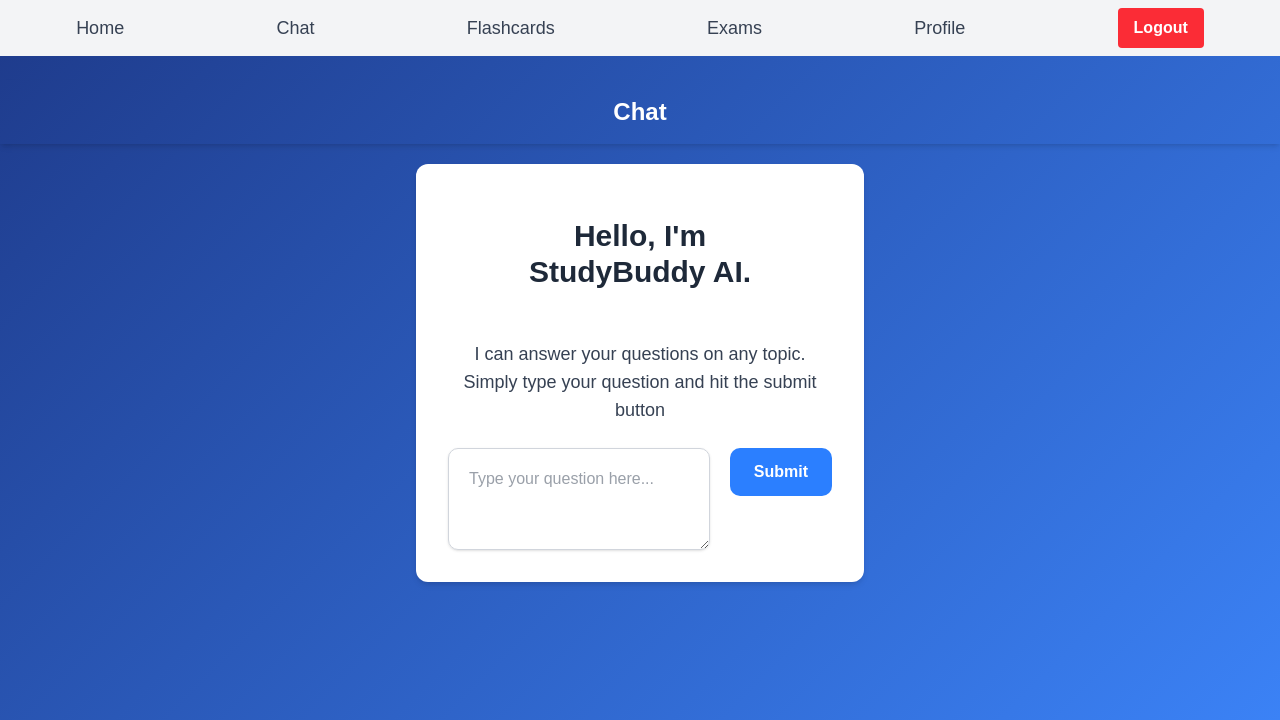
Test: ChatPage Feature › should clear the reply after a new prompt is submitted
In the text box with placeholder "Type your question here...": (579, 499) [448,448,710,550], type "First question"
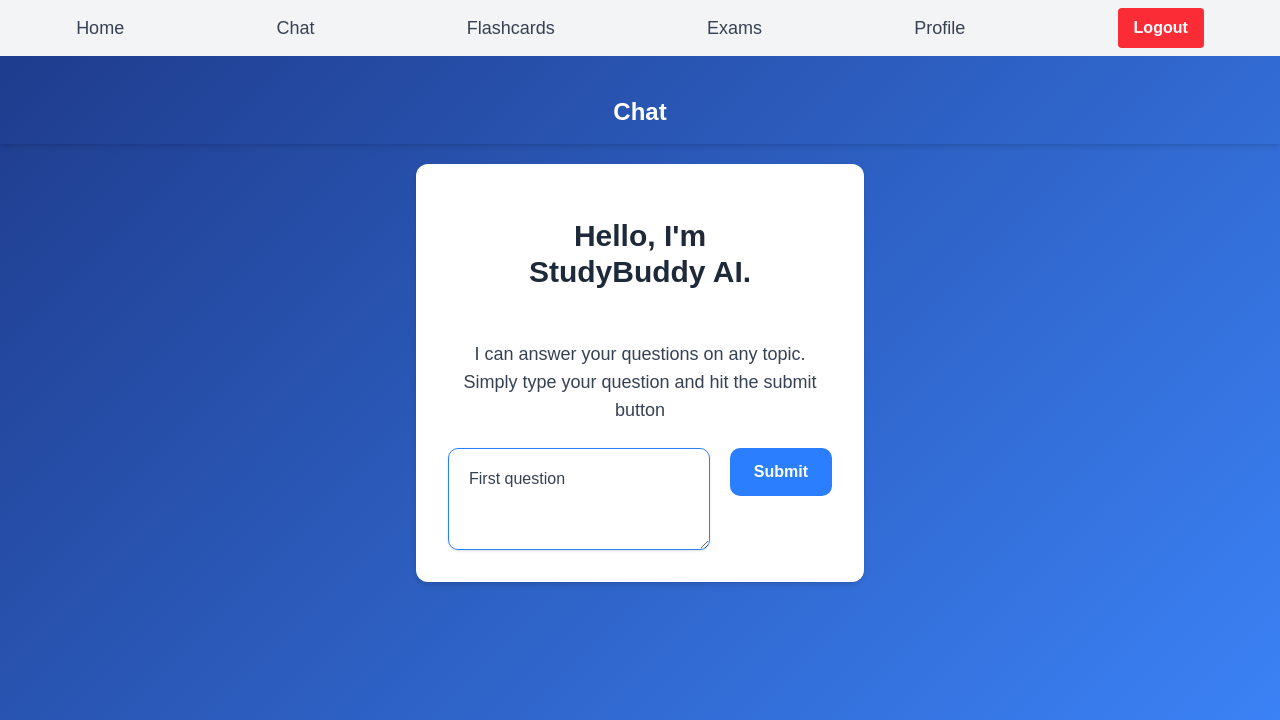
Click the button with id "submit-prompt": (781, 472) [730,448,832,496]
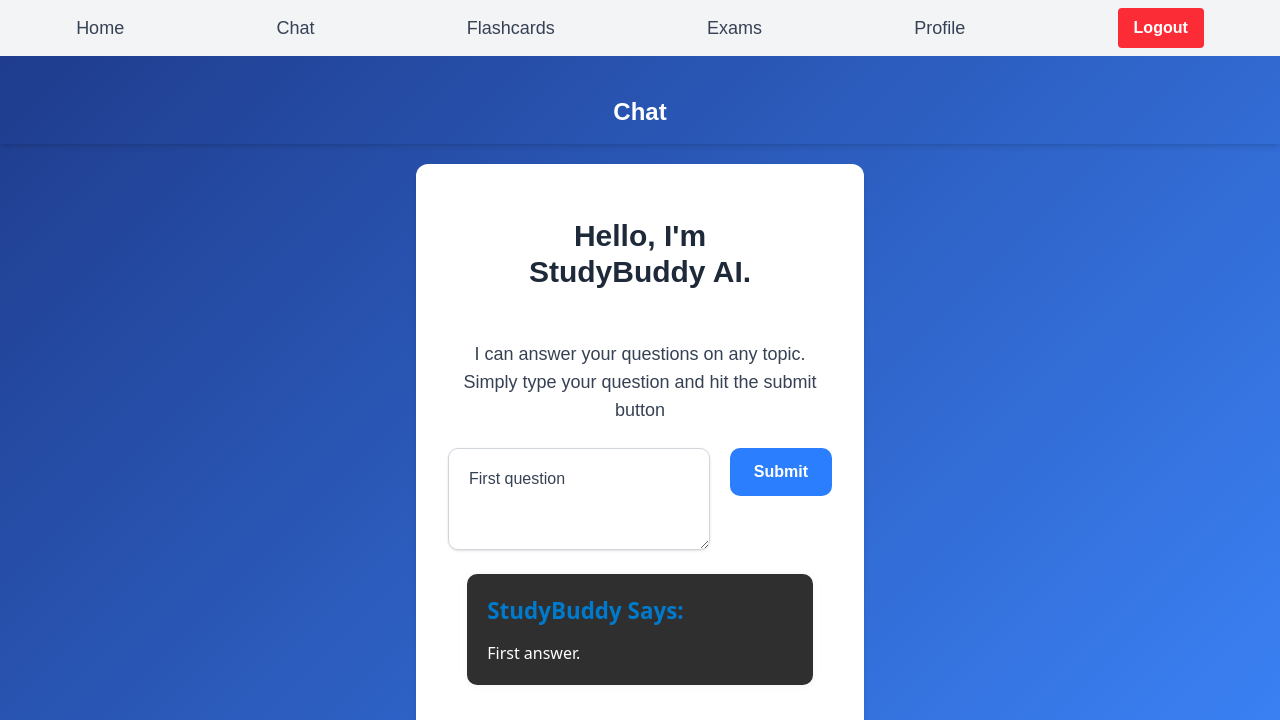
Now the text with id "reply-container" reads "First answer.", box [487,642,580,664]
Replace the text in the text box with "Second question": (579, 499) [448,448,710,550]
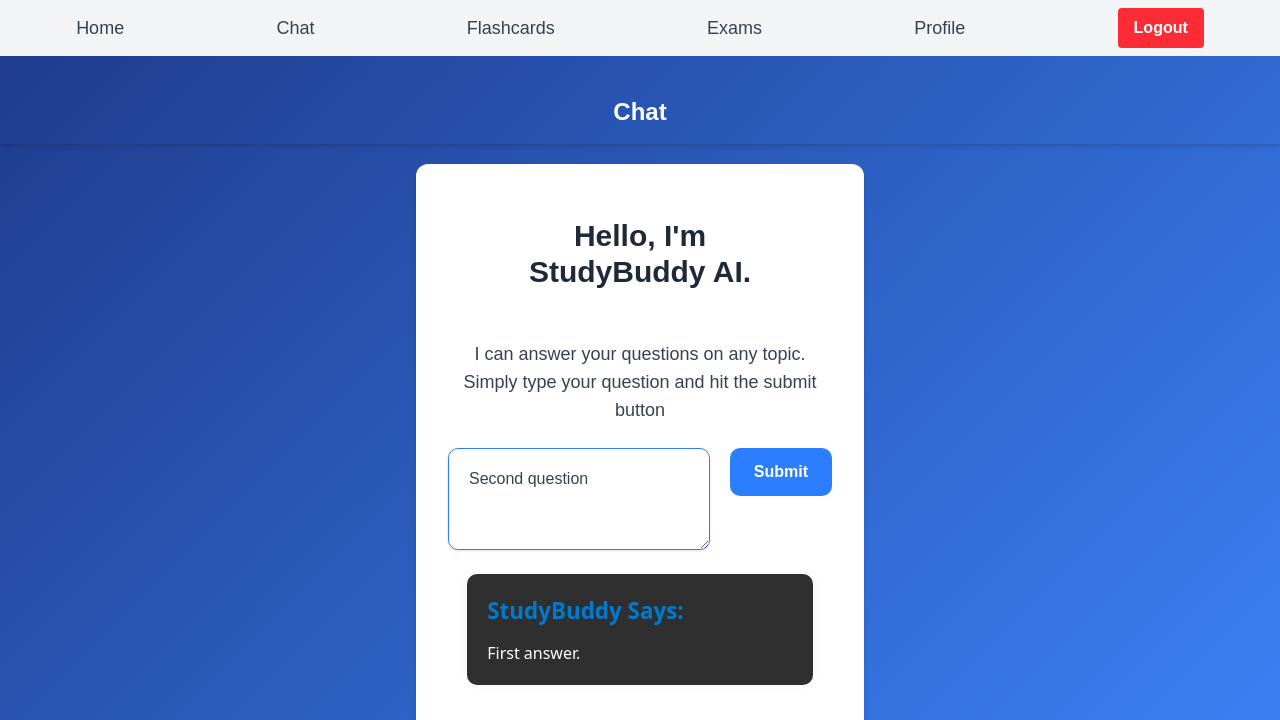
Click the button with id "submit-prompt": (781, 472) [730,448,832,496]
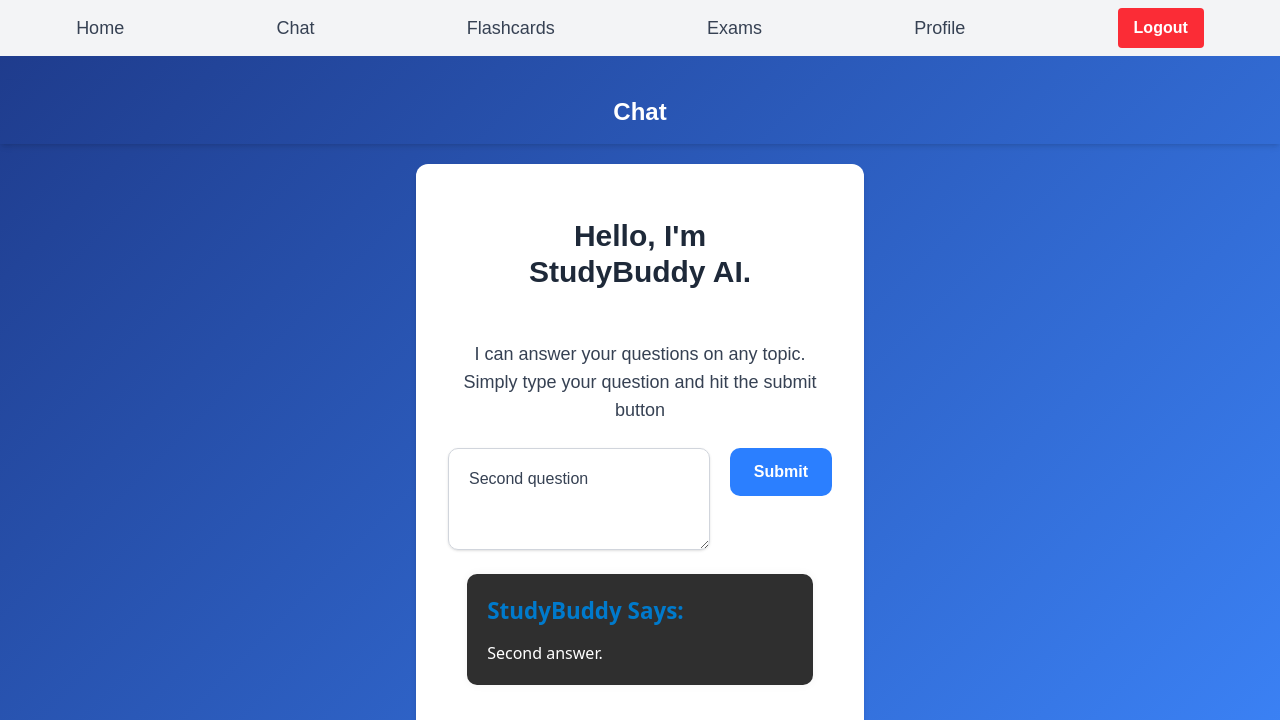
Now the text with id "reply-container" reads "Second answer.", box [487,642,603,664]
Now the text with id "reply-container" no longer shows "First answer."
